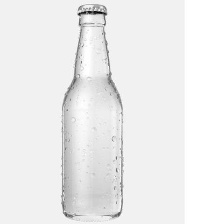bottle: (58, 2, 128, 224)
